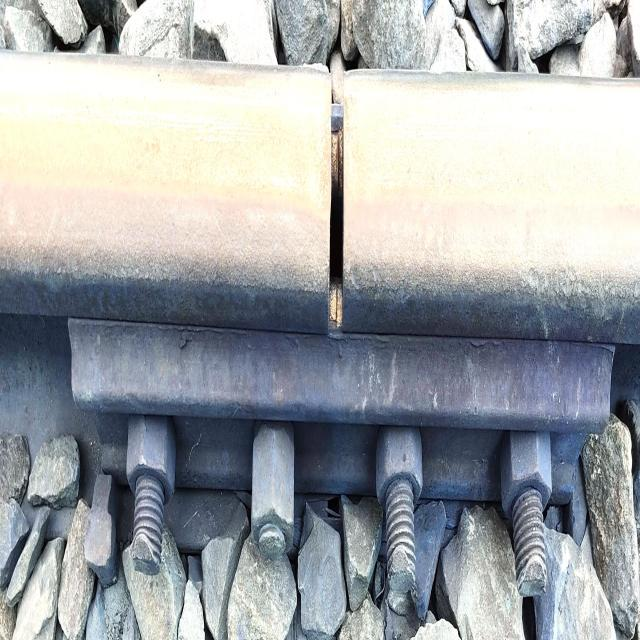Good Joint: (69, 312, 615, 608)
